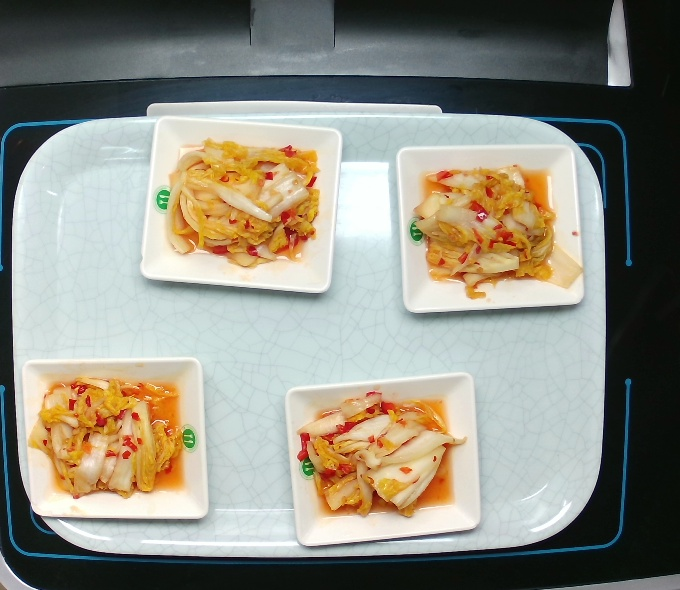wcq-SuanLaBaiCai: (294, 377, 470, 524), (409, 159, 582, 307), (29, 362, 192, 504), (165, 133, 325, 272)
